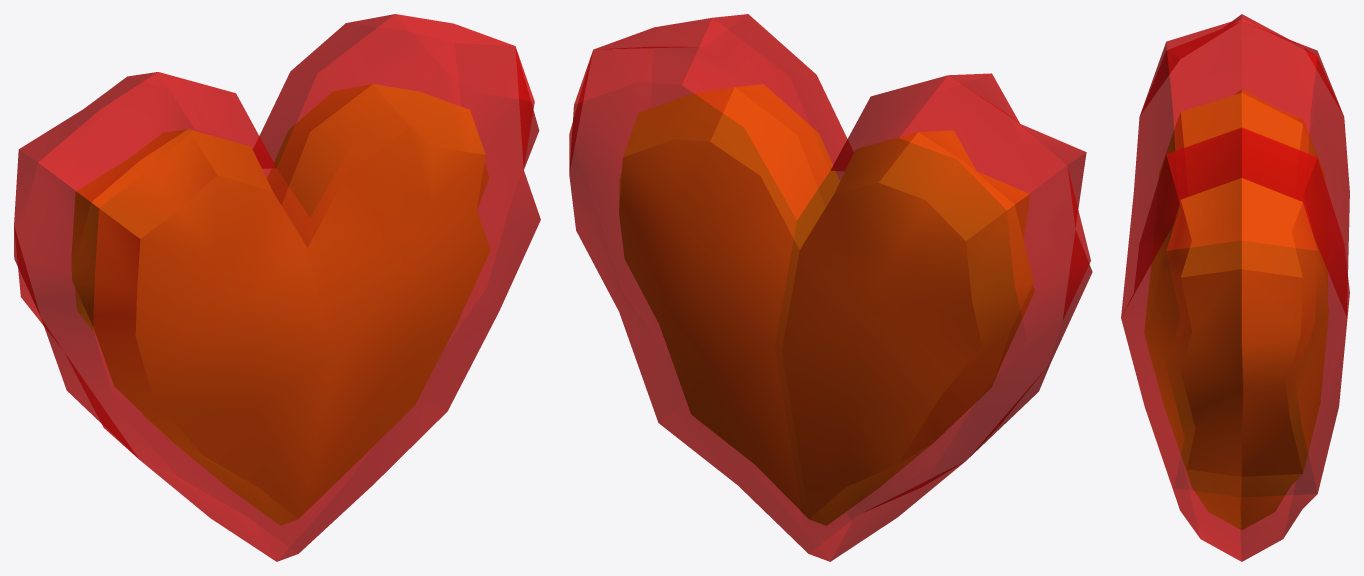
Rendered from Heart.fbx.
3 views of the same model, side by side, from view 1: azimuth 30°, elevation 25°; view 2: azimuth 150°, elevation 25°; view 3: azimuth 270°, elevation 25° (orthographic). The views are drawn at different scales.
Visible parts, largest first — view 1: pCube1, pCube2; view 2: pCube1, pCube2; view 3: pCube1, pCube2.
Part boxes in pixels (<box>): pCube1: <box>14,14,540,561</box>; pCube2: <box>72,84,490,525</box>; pCube1: <box>569,14,1092,561</box>; pCube2: <box>619,84,1034,525</box>; pCube1: <box>1121,14,1349,561</box>; pCube2: <box>1144,89,1328,529</box>.
Bounding box in the file's own units: 39.91 × 37.69 × 15.99.
